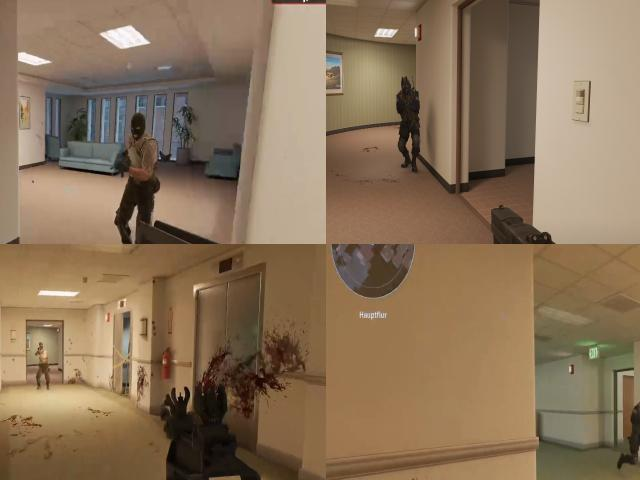CT: (399, 76, 419, 169), (629, 386, 640, 475)
CT-Head: (402, 77, 411, 91)
T: (111, 108, 161, 244), (34, 336, 50, 383)
T-Head: (122, 112, 152, 139), (36, 340, 46, 354)
